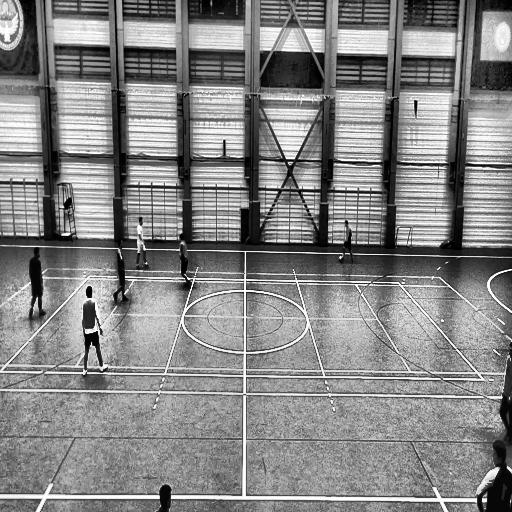ball: (340, 254, 344, 262)
player: (82, 285, 107, 375), (28, 246, 46, 319), (499, 342, 512, 441), (115, 238, 131, 301), (136, 216, 149, 268), (180, 233, 191, 287), (341, 219, 353, 262)
